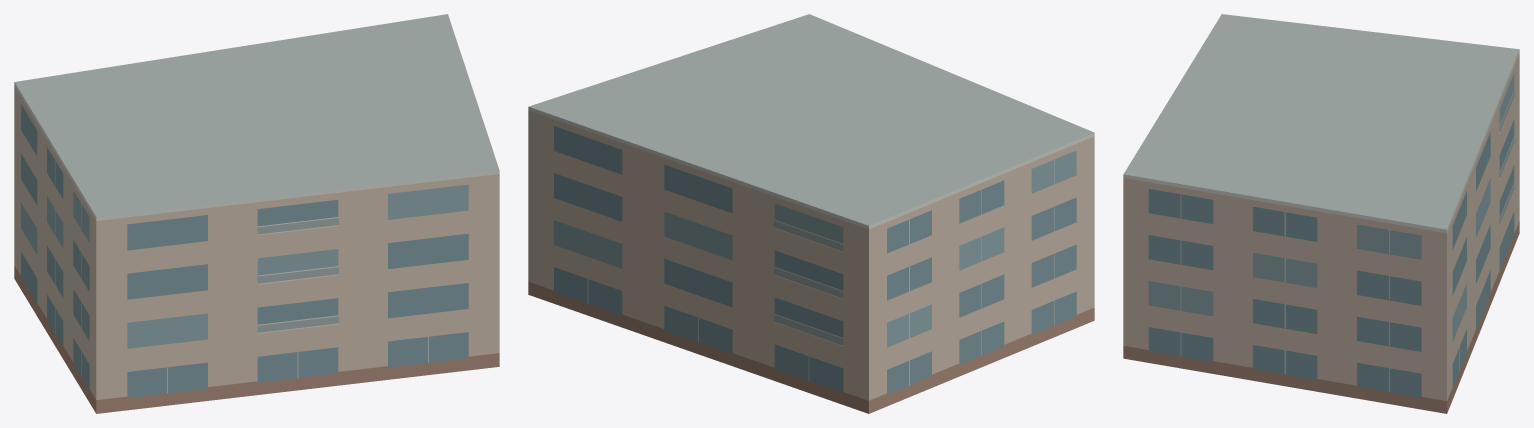
Rendered from survey-upis-32895696.glb.
3 views of the same model, side by side, from view 1: azimuth 30°, elevation 25°; view 2: azimuth 150°, elevation 25°; view 3: azimuth 270°, elevation 25° (orthographic). The views are drawn at different scales.
Parts seen in each view (by area): view 1: survey-upis-32895696.tmp; view 2: survey-upis-32895696.tmp; view 3: survey-upis-32895696.tmp.
Boxes of the visible parts, x1,y1,x2,y2 form: survey-upis-32895696.tmp: (14, 14, 499, 413); survey-upis-32895696.tmp: (528, 14, 1094, 413); survey-upis-32895696.tmp: (1123, 14, 1519, 413).
Size of the model in its own units: 30.62 by 12.2 by 23.77.
